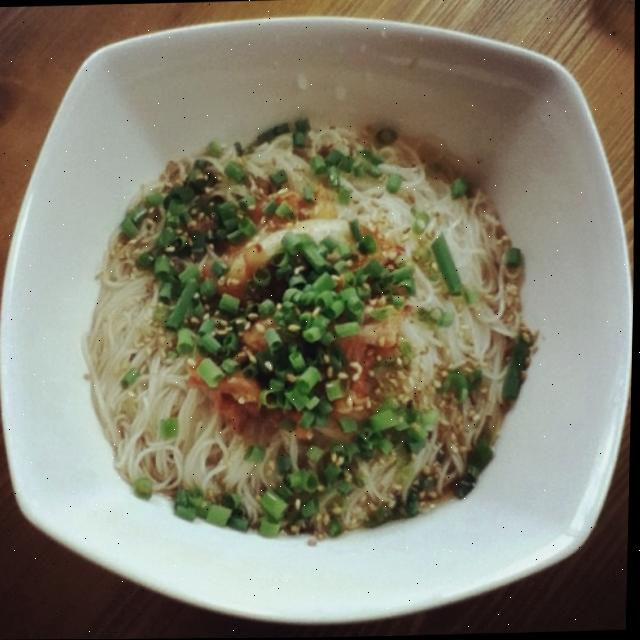面条主食: (35, 85, 598, 596)
